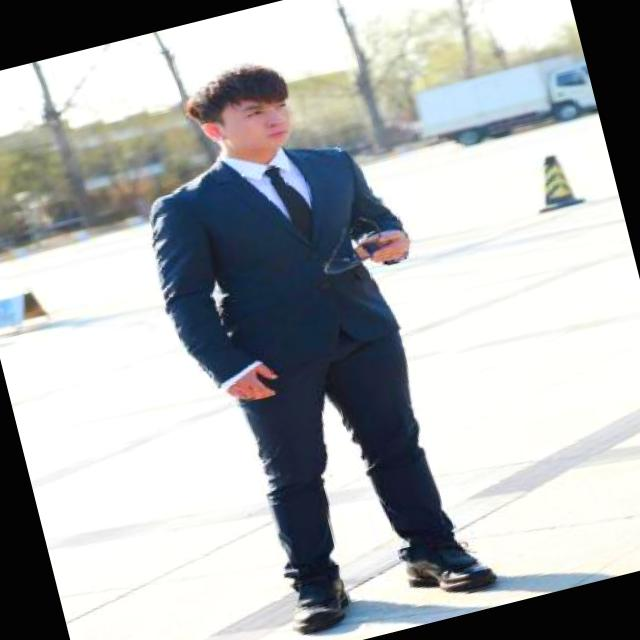Person: (75, 24, 546, 640)
